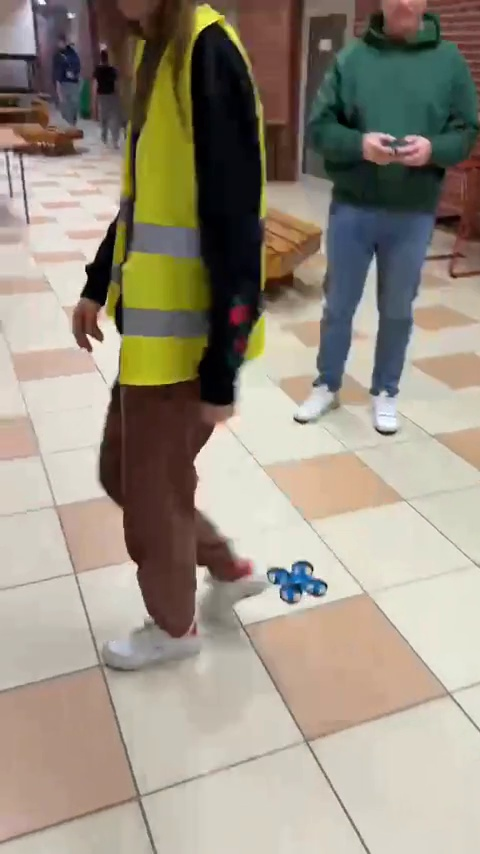drone: (265, 557, 325, 601)
no vest: (311, 0, 473, 455), (94, 48, 131, 158), (51, 35, 91, 135)
vest: (107, 0, 295, 643)
